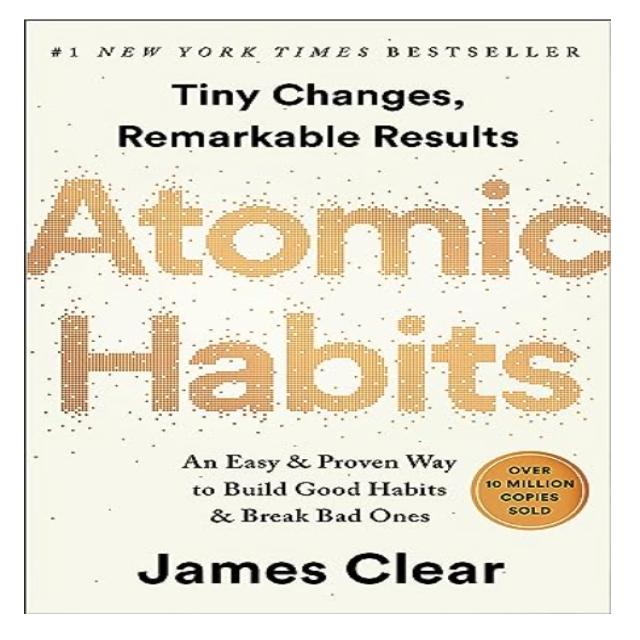titles-or-authors: (24, 168, 614, 425), (123, 541, 514, 594)
